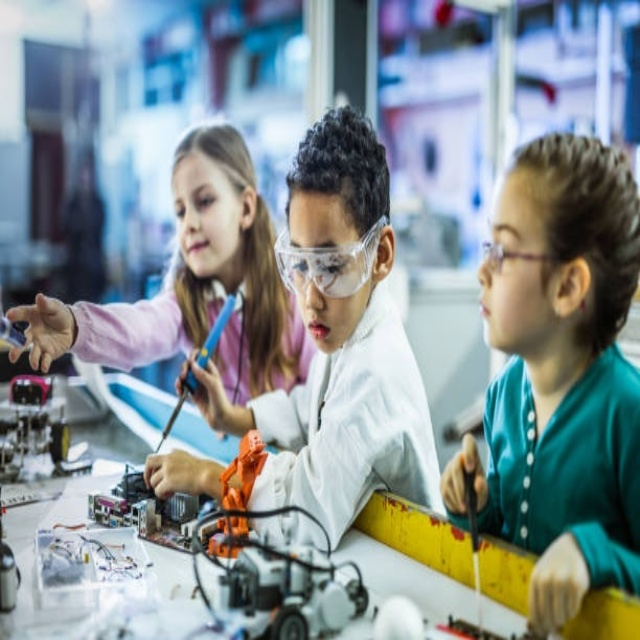Gafas: (273, 217, 387, 298), (482, 234, 567, 275)
Sin_gafas: (172, 169, 224, 221)
Sin_guantes: (520, 524, 593, 635), (7, 281, 75, 376), (439, 425, 488, 513), (178, 350, 230, 427), (141, 439, 204, 500)
Sin_mascara: (476, 282, 515, 348), (305, 311, 338, 353), (184, 234, 215, 265)
